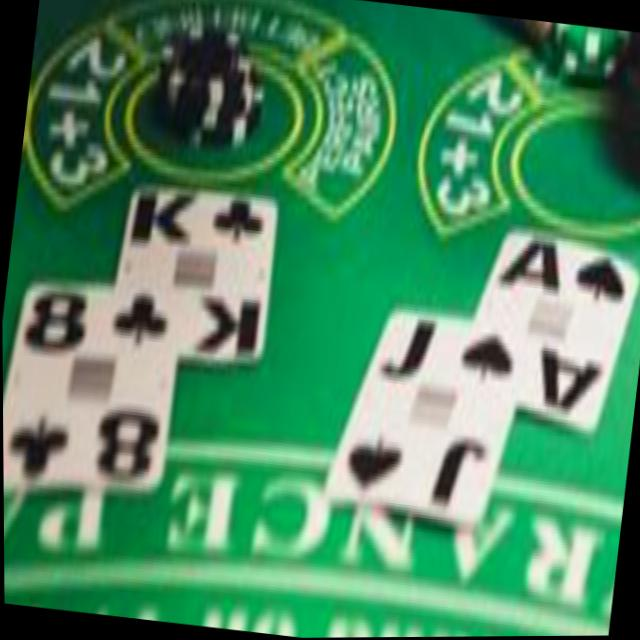Card-8: (2, 280, 177, 486)
Card-A: (450, 221, 638, 436)
Card-J: (322, 301, 513, 529)
Card-K: (106, 180, 277, 358)
